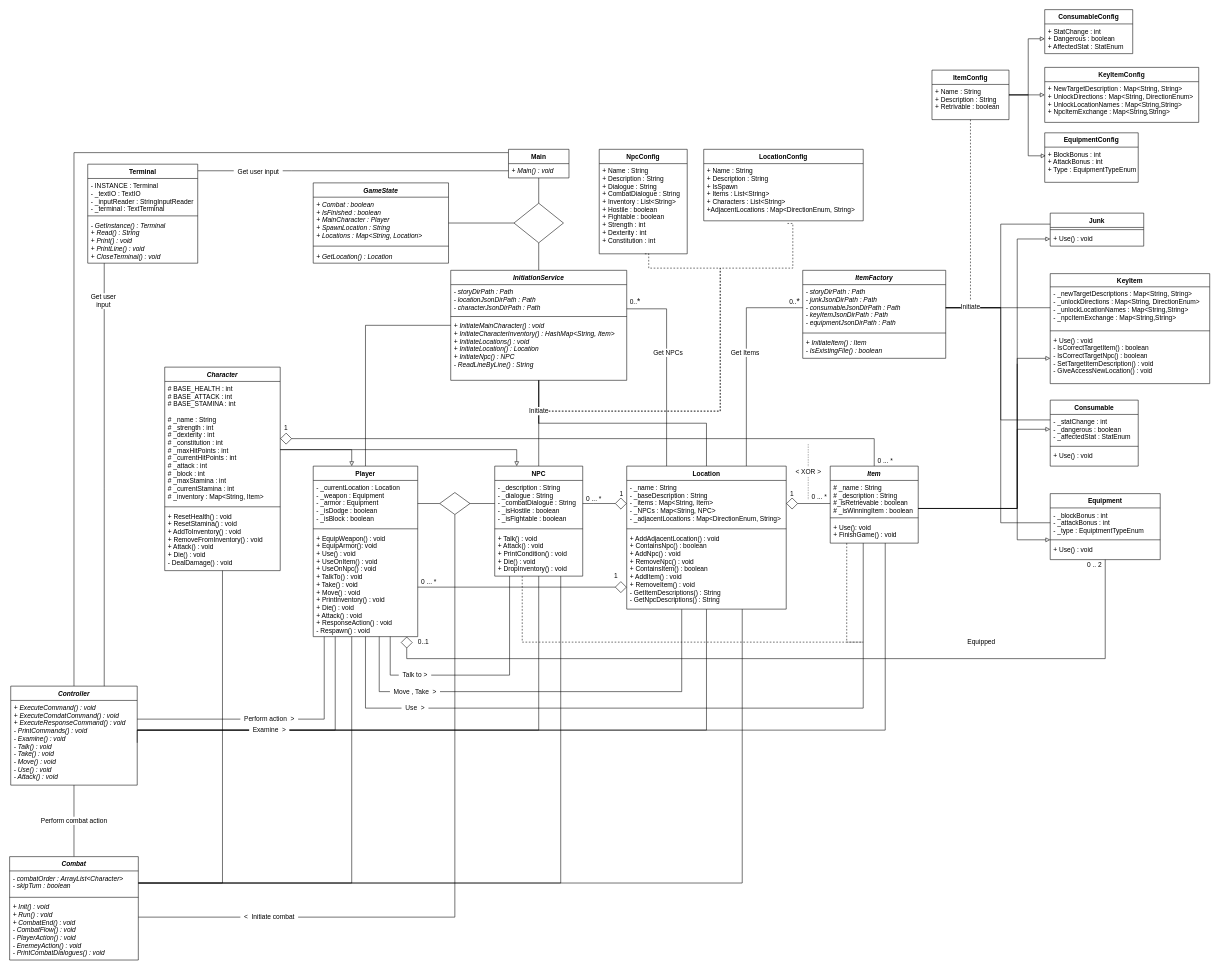
This 1219x971 diagram has some shape labels left out. Each missing label, with the centre of its shape:
"Attack" belongs at [454,503].
"Initiate locations and main character" belongs at [538,223].
